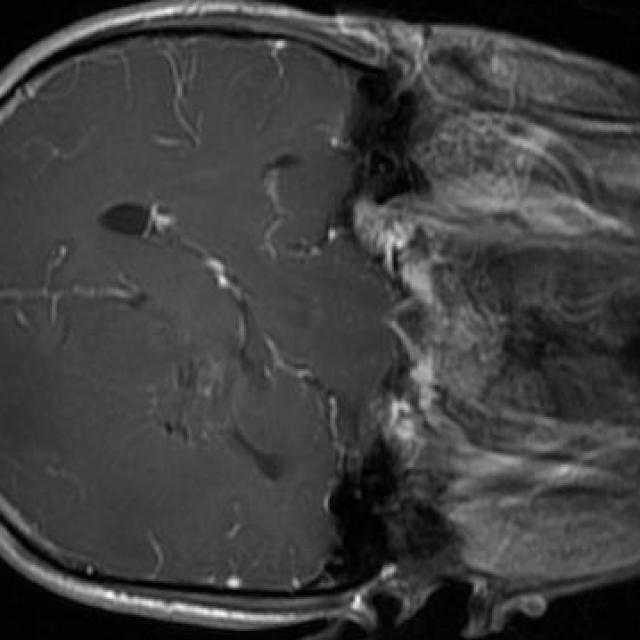glioma: (152, 358, 239, 446)
